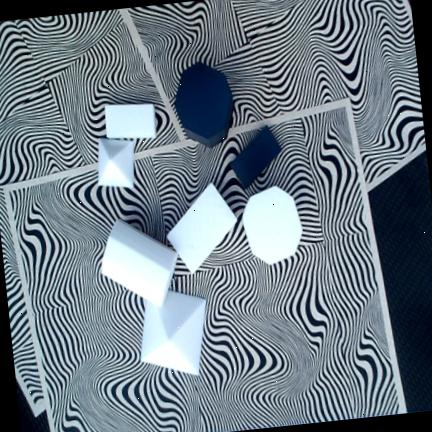Paralelepipedo: (167, 183, 238, 275), (141, 290, 206, 376), (230, 126, 282, 189), (105, 104, 157, 138)
Piramide: (98, 138, 134, 188)
Prisma_hexagonal: (101, 220, 178, 308), (174, 62, 234, 148), (242, 185, 303, 265)
